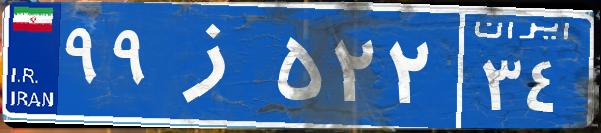2: (385, 28, 445, 110), (330, 28, 385, 110)
3: (475, 38, 525, 113)
4: (525, 38, 570, 115)
5: (273, 28, 330, 110)
9: (57, 26, 110, 107), (110, 28, 158, 105)
ز: (158, 15, 273, 115)
